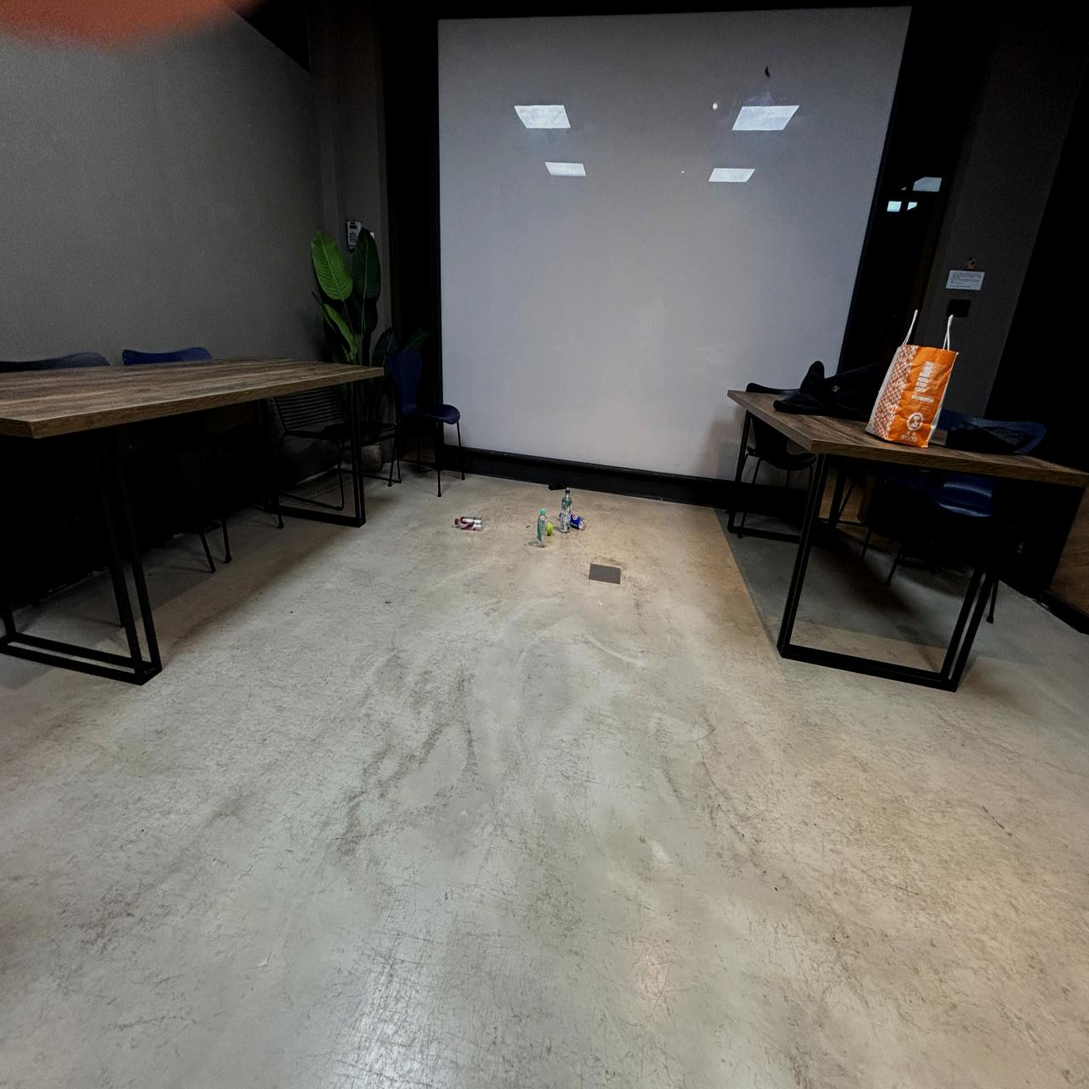plastic-bottle: (559, 488, 572, 533), (538, 509, 547, 547)
tennisball: (546, 522, 552, 534)
